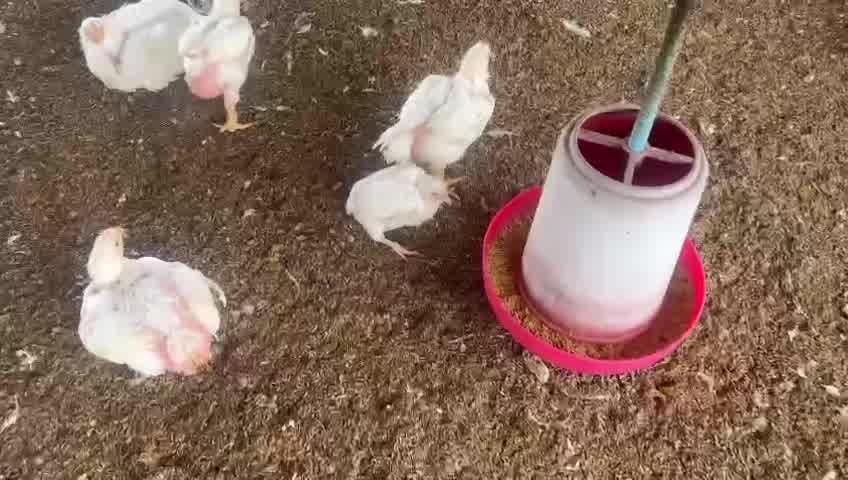AbNormal: (346, 155, 464, 264)
Normal: (72, 224, 240, 384), (379, 40, 506, 175), (69, 0, 208, 98), (185, 0, 279, 132)
